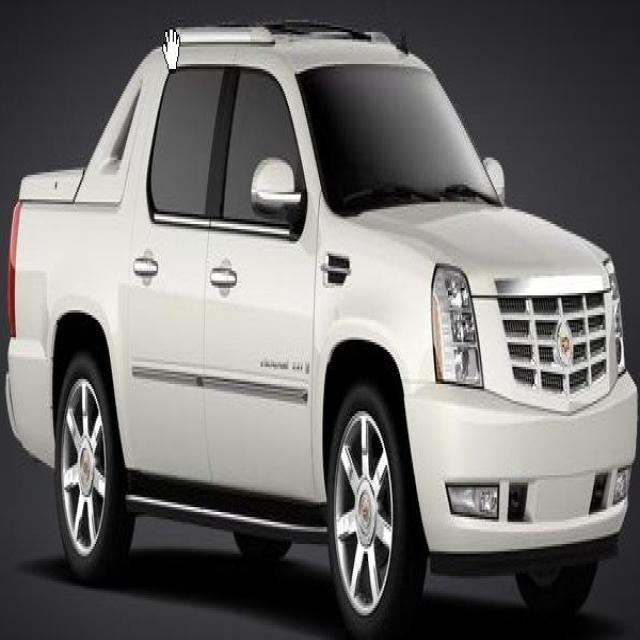CMT: (11, 31, 632, 552)
